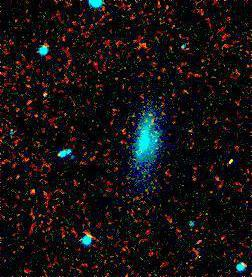star: (14, 181, 44, 211)
